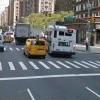Car: (21, 36, 52, 65)
